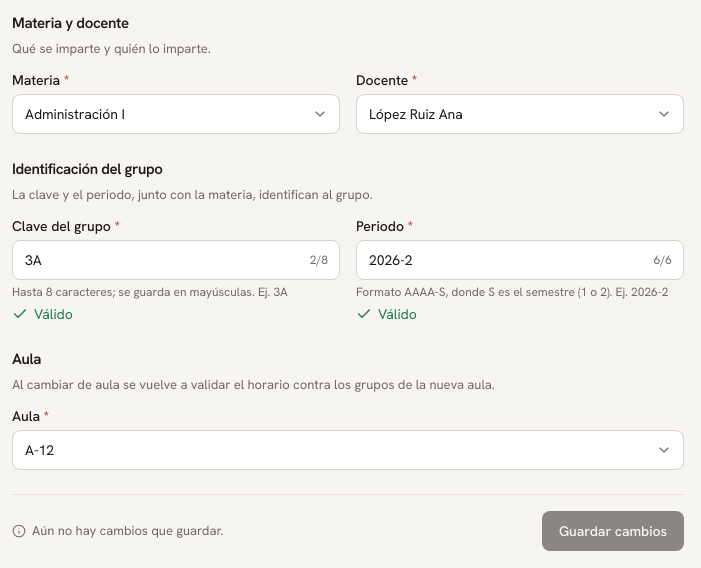
Test: GrupoForm (edición) › si el catálogo trae más de 200 registros pasa a búsqueda remota por texto
The image size is (701, 568).
Replace the text in the dropdown labelled "Materia *" with "mate" at (176, 114), box [12,94,340,134]
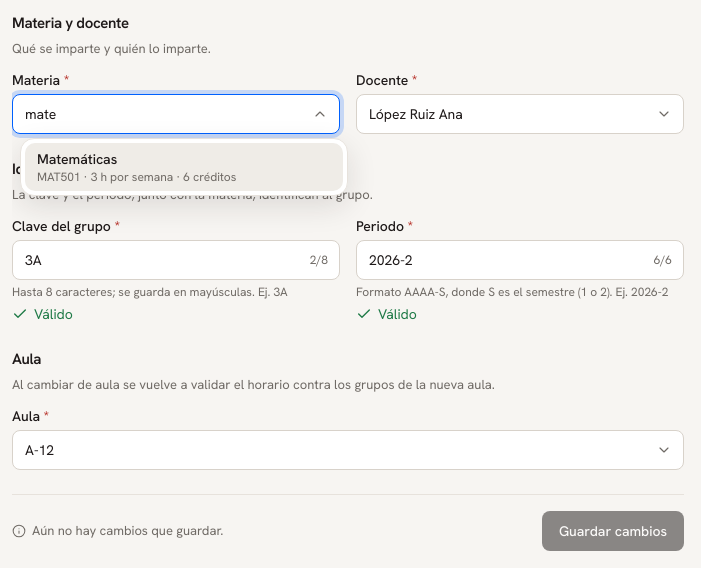
Check: the option "Matemáticas MAT501 · 3 h por semana · 6 créditos" is shown, box [25,143,343,191]
